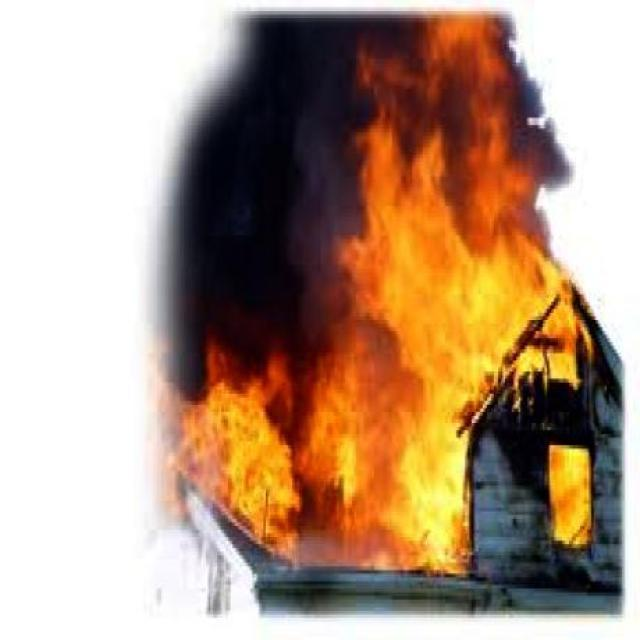Fire: (356, 23, 594, 374), (173, 368, 479, 584), (546, 439, 592, 544)
Smoke: (175, 16, 348, 354)
